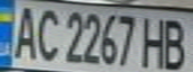2: (78, 8, 103, 65), (60, 7, 84, 65)
6: (100, 10, 121, 66)
7: (115, 11, 142, 68)
A: (9, 2, 39, 61)
B: (157, 15, 193, 71)
C: (30, 3, 63, 63)
H: (136, 14, 172, 70)
